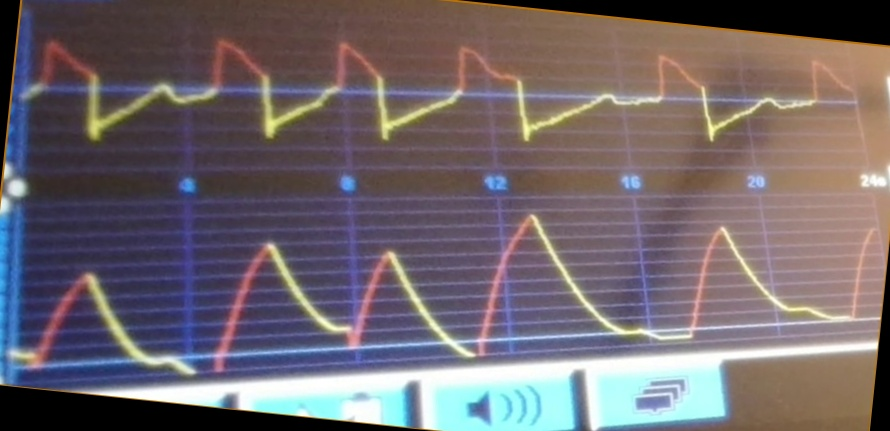Ineffective_effort Flow: (28, 36, 854, 151)
Ineffective_effort Volume: (22, 209, 873, 376)
